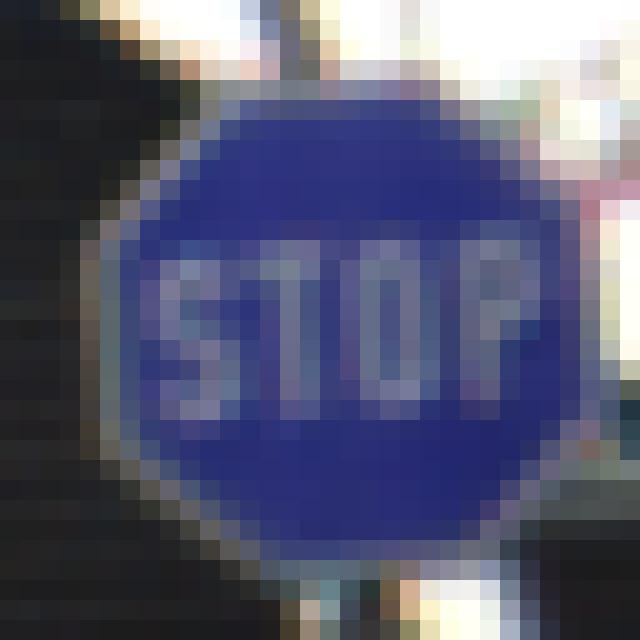STOP: (116, 104, 585, 557)
